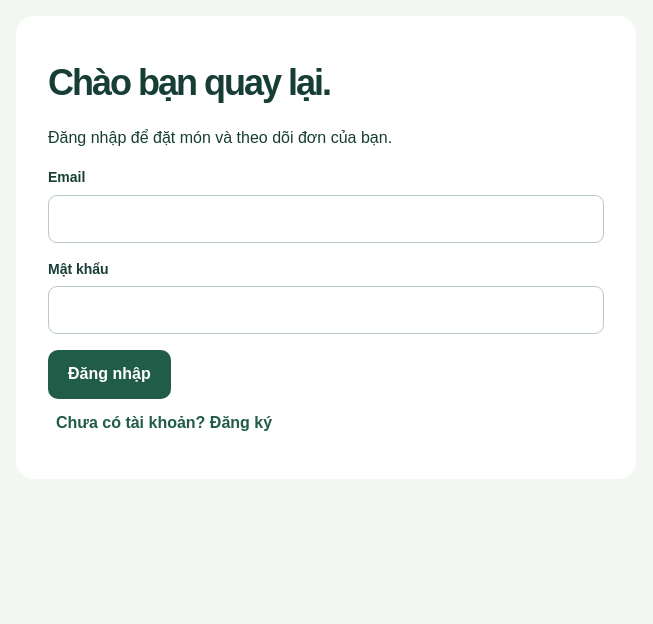
Test: auth switches to registration without losing accessible labels
Click the button "Chưa có tài khoản? Đăng ký" at [164, 423], box x1=48 y1=399 x2=280 y2=447
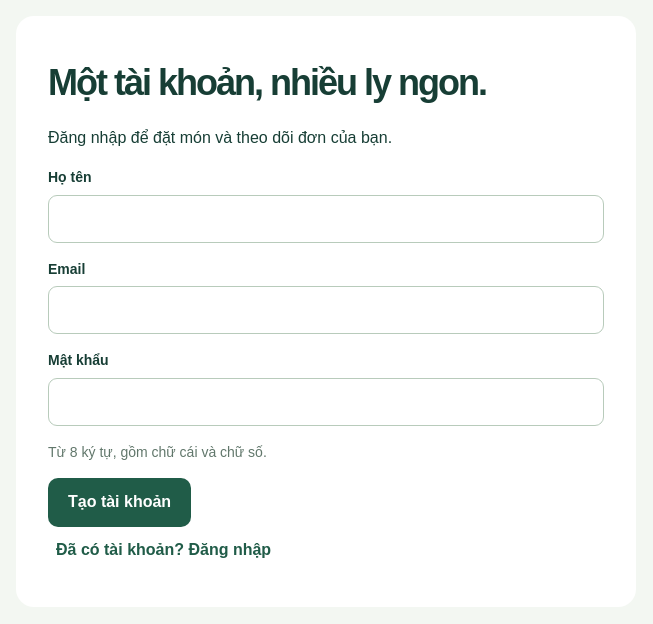
Result: the button "Tạo tài khoản" is shown at x1=48 y1=478 x2=191 y2=526
